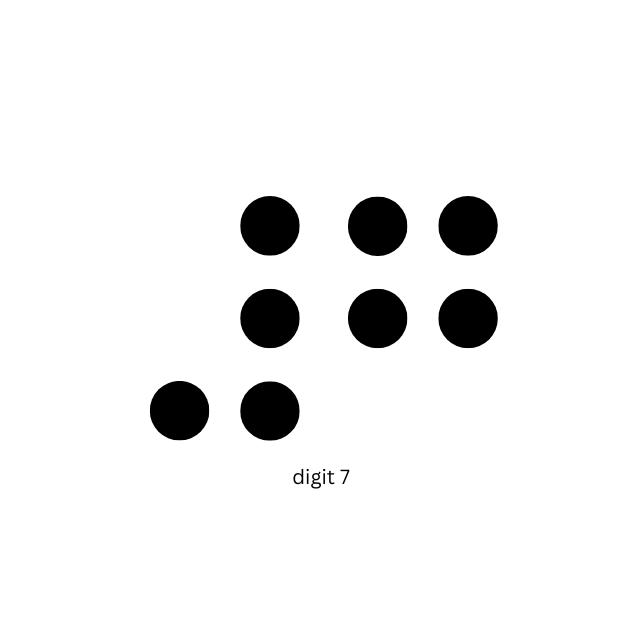digit_7: (347, 195, 499, 440)
number_sign: (149, 195, 301, 442)
